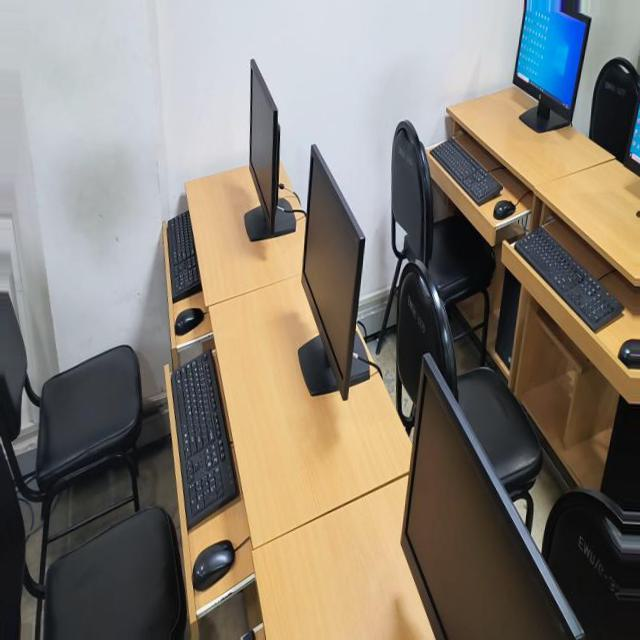Chair: (0, 303, 143, 478), (0, 512, 183, 640), (463, 358, 554, 516), (558, 473, 640, 639), (398, 258, 464, 396), (385, 117, 431, 262), (585, 43, 634, 146)
Cpu: (615, 379, 640, 492), (500, 259, 523, 357)
Keyboard: (171, 358, 245, 534), (515, 215, 629, 316), (424, 133, 499, 197), (159, 220, 197, 309)
Monitor: (414, 350, 606, 639), (299, 146, 374, 398), (237, 65, 290, 245), (505, 0, 581, 121), (621, 46, 640, 159)
Mouse: (203, 543, 246, 595), (172, 315, 201, 343), (491, 191, 514, 210), (626, 322, 640, 351)
